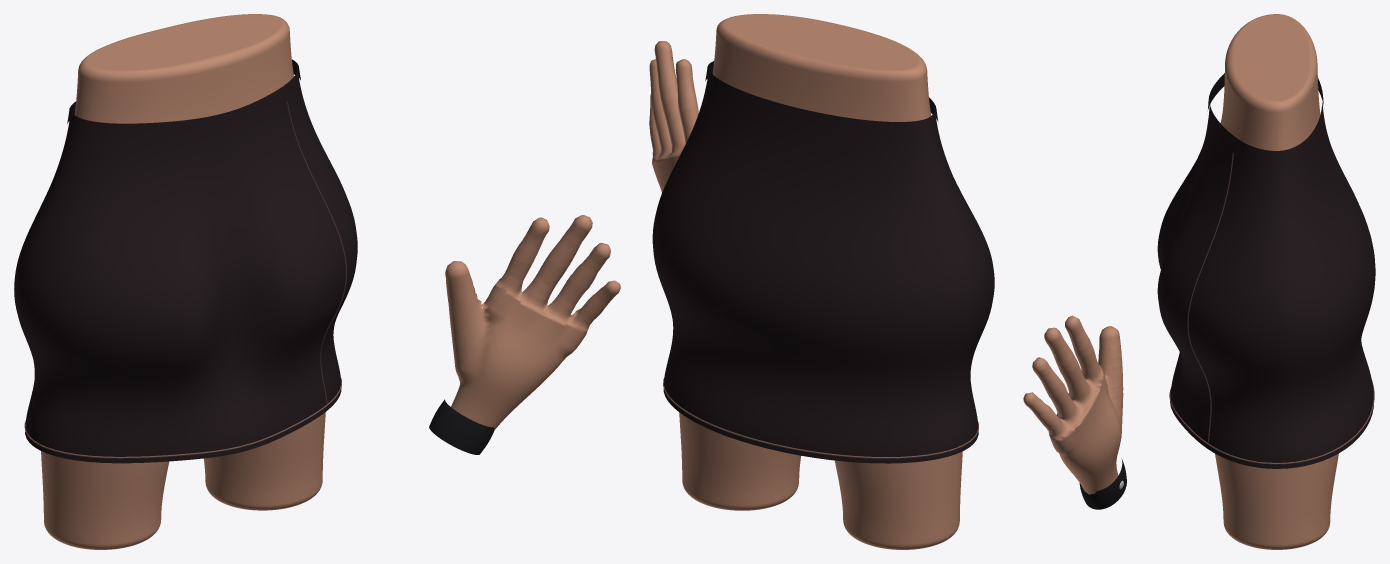
File: klets-fashion.glb
3 views of the same model, side by side, from view 1: azimuth 30°, elevation 25°; view 2: azimuth 150°, elevation 25°; view 3: azimuth 270°, elevation 25° (orthographic). The views are drawn at different scales.
Visible parts, largest first — view 1: Garment, Skin, Hand, Cuff; view 2: Garment, Skin, Hand; view 3: Garment, Skin, Hand, Cuff.
Boxes of the visible parts, x1,y1,x2,y2 form: Garment: (14,59,357,463); Skin: (41,14,325,549); Hand: (445,215,620,430); Cuff: (429,399,494,454); Garment: (652,61,994,463); Skin: (679,14,962,549); Hand: (649,41,698,192); Garment: (1157,73,1375,468); Skin: (1215,14,1338,549); Hand: (1023,315,1123,494); Cuff: (1079,458,1126,509).
Bounding box in the file's own units: 3.07 × 2.96 × 2.17.
